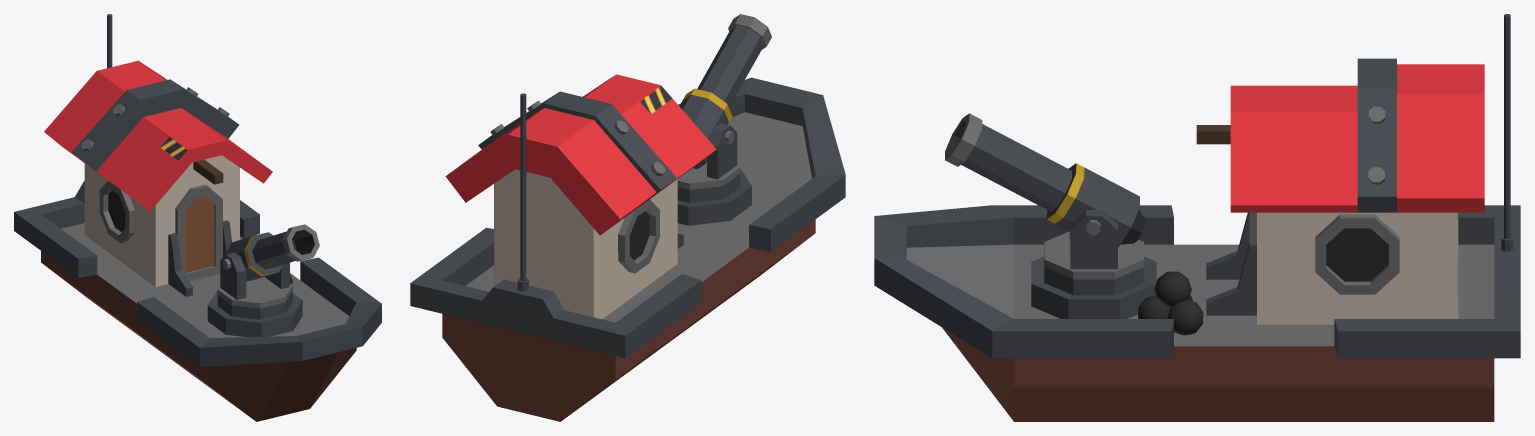
Rendered from Enemy.1_IdleAnimations.fbx.
The picture shows the model from 3 angles, left to right: view 1: azimuth 30°, elevation 25°; view 2: azimuth 150°, elevation 25°; view 3: azimuth 270°, elevation 25°; orthographic projection. The views are drawn at different scales.
Parts seen in each view (by area): view 1: Enemy.1_Back.001; view 2: Enemy.1_Back.001; view 3: Enemy.1_Back.001.
Boxes of the visible parts, left/top/right/bottom form: Enemy.1_Back.001: left=14, top=14, right=381, bottom=421; Enemy.1_Back.001: left=410, top=14, right=845, bottom=421; Enemy.1_Back.001: left=874, top=14, right=1520, bottom=421.
Size of the model in its own units: 248 by 357 by 538.
